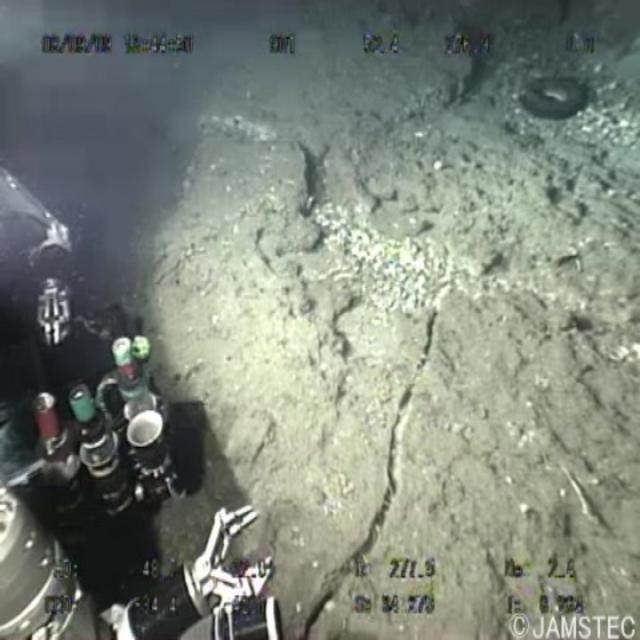Rubber: (508, 54, 599, 151)
